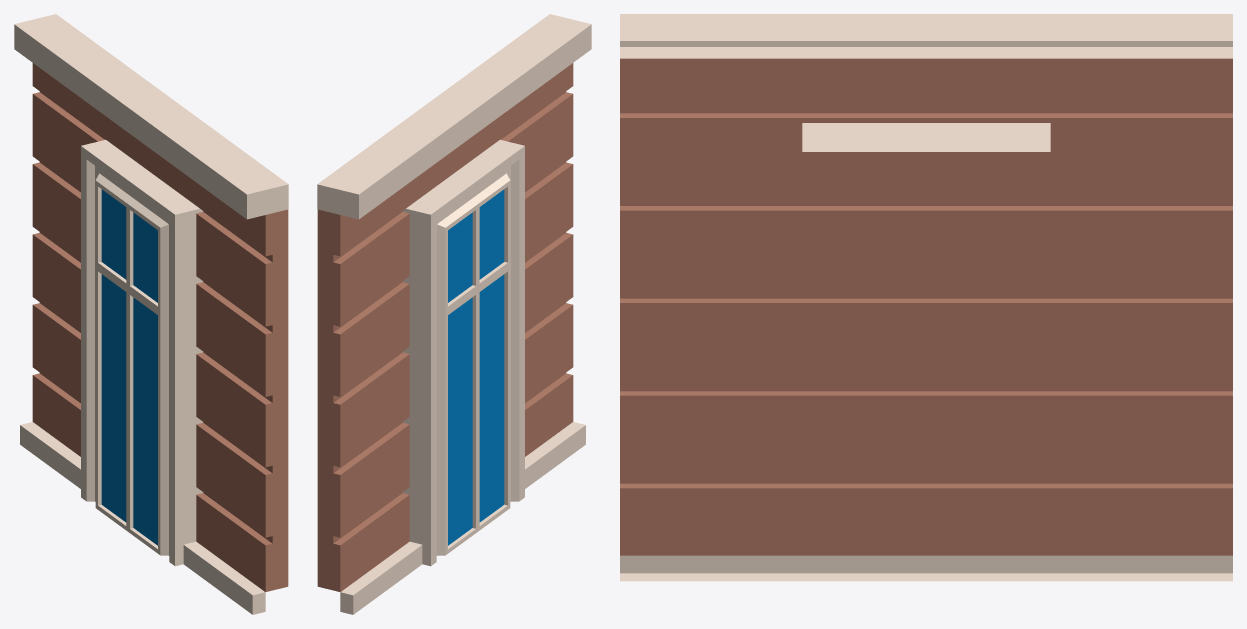
File: O_V_F_Type5_Door.fbx
3 views of the same model, side by side, from view 1: azimuth 30°, elevation 25°; view 2: azimuth 150°, elevation 25°; view 3: azimuth 270°, elevation 25° (orthographic). The views are drawn at different scales.
Parts seen in each view (by area): view 1: Box011; view 2: Box011; view 3: Box011.
Boxes of the visible parts, x1,y1,x2,y2 form: Box011: [14, 14, 288, 614]; Box011: [317, 14, 591, 614]; Box011: [620, 14, 1232, 581].
Bounding box in the file's own units: 0.5463 × 3 × 3.
